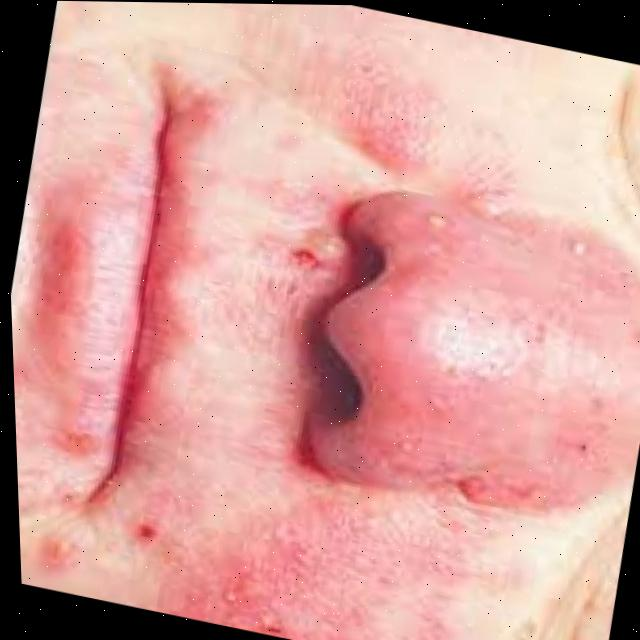Rosacea: (127, 3, 640, 640)
